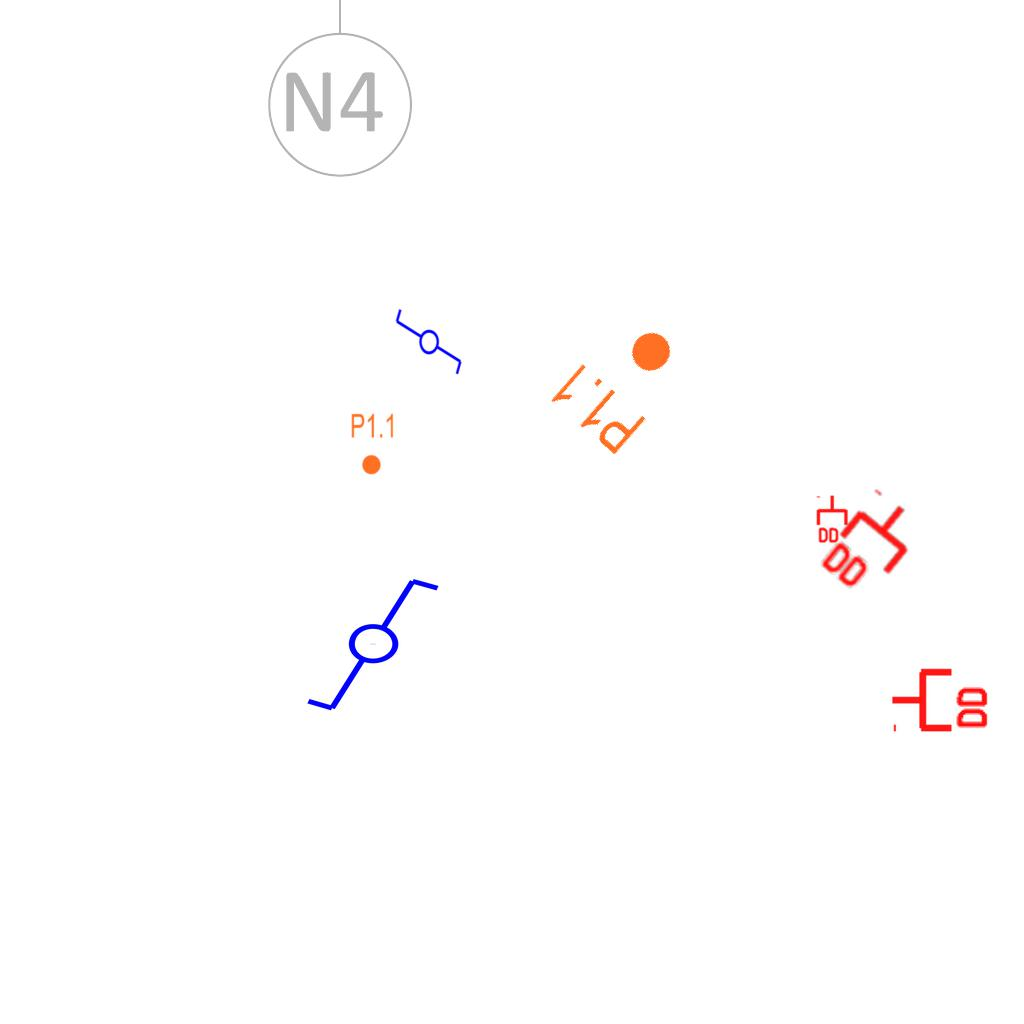Datenanschluss_zweifach: (813, 484, 932, 609), (889, 664, 992, 733), (816, 494, 850, 545)
Downlight_LED_Einbauleuchten_Flur: (544, 302, 699, 460), (350, 412, 396, 476)
Wechselschalter: (303, 574, 460, 718), (392, 307, 464, 385)
